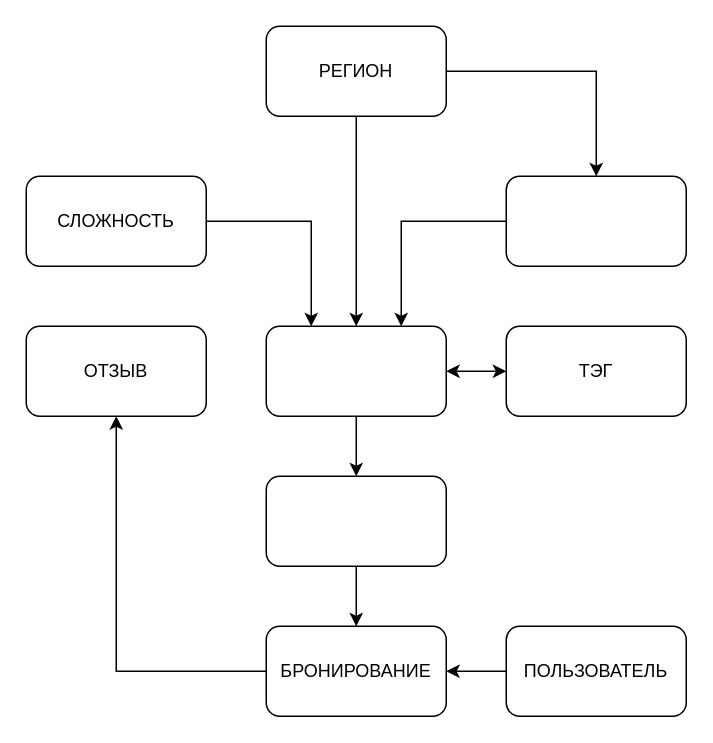
This 713x743 diagram has some shape labels left out. Each missing label, with the centre of its shape:
ГОРА: (x=595, y=220)
ПРЕДЛОЖЕНИЕ: (x=355, y=520)
ТУР: (x=355, y=370)
